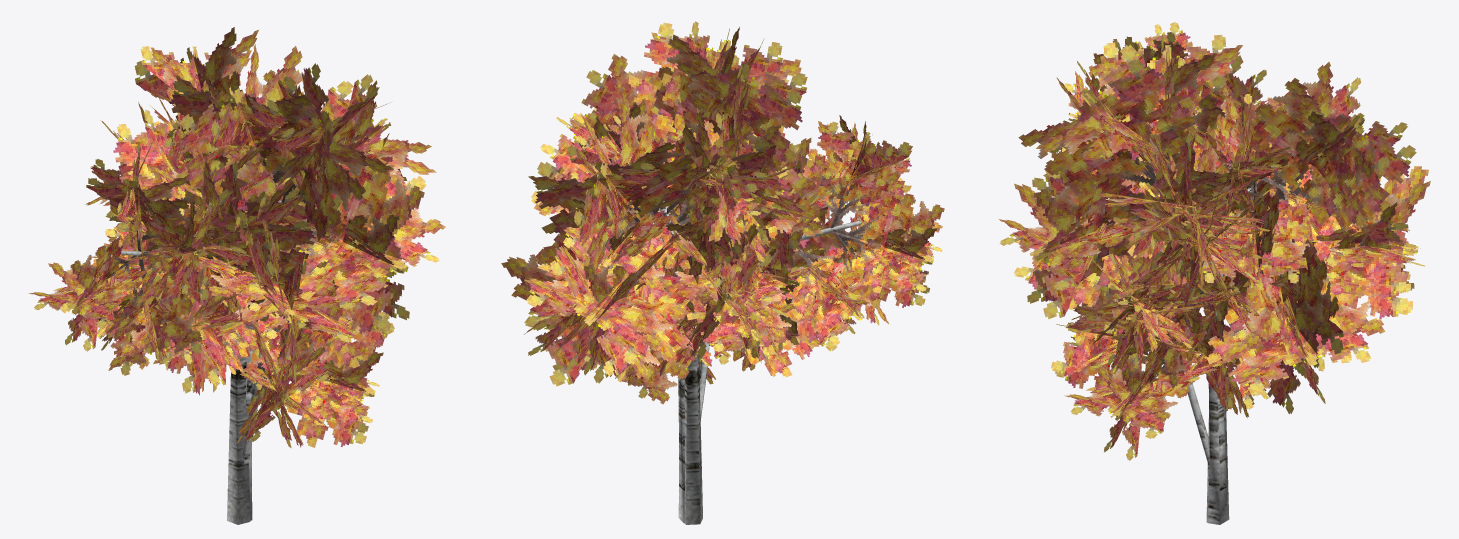
Rendered from Autumn Birch.fbx.
3 views of the same model, side by side, from view 1: azimuth 30°, elevation 25°; view 2: azimuth 150°, elevation 25°; view 3: azimuth 270°, elevation 25° (orthographic). The views are drawn at different scales.
Parts seen in each view (by area): view 1: Autumn Birch Tree 3, Autumn Birch Tree 2, Autumn Birch Tree 1; view 2: Autumn Birch Tree 3, Autumn Birch Tree 2, Autumn Birch Tree 1; view 3: Autumn Birch Tree 3, Autumn Birch Tree 2, Autumn Birch Tree 1.
Part boxes in pixels (x1,y1,x2,y2): Autumn Birch Tree 3: [85, 27, 445, 524]; Autumn Birch Tree 2: [28, 70, 350, 520]; Autumn Birch Tree 1: [153, 248, 394, 463]; Autumn Birch Tree 3: [501, 21, 863, 524]; Autumn Birch Tree 2: [560, 98, 944, 522]; Autumn Birch Tree 1: [589, 208, 819, 420]; Autumn Birch Tree 3: [999, 34, 1430, 522]; Autumn Birch Tree 2: [1049, 22, 1365, 524]; Autumn Birch Tree 1: [1051, 253, 1250, 462].
Size of the model in its own units: 3.73 by 4.26 by 3.62.
Materials: 2 (2 with a texture image).
